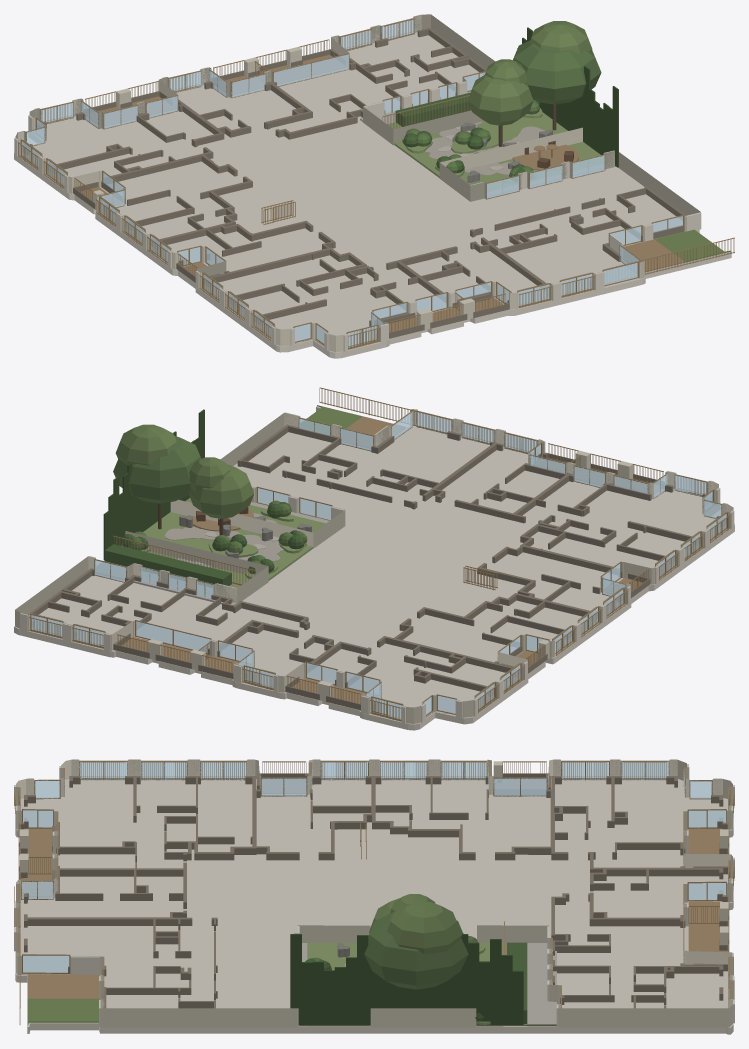
3 views of the same model, one above another, from view 1: azimuth 30°, elevation 25°; view 2: azimuth 150°, elevation 25°; view 3: azimuth 270°, elevation 25° (orthographic). The views are drawn at different scales.
Bounding box in the file's own units: 34.12 × 7.57 × 39.
